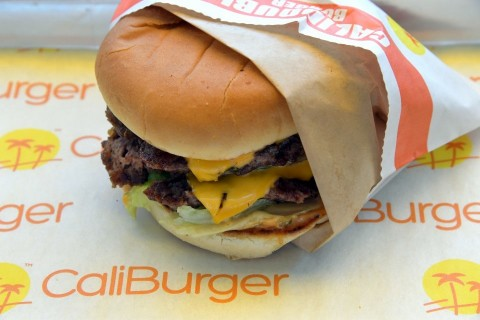hamburger: (90, 8, 344, 268)
